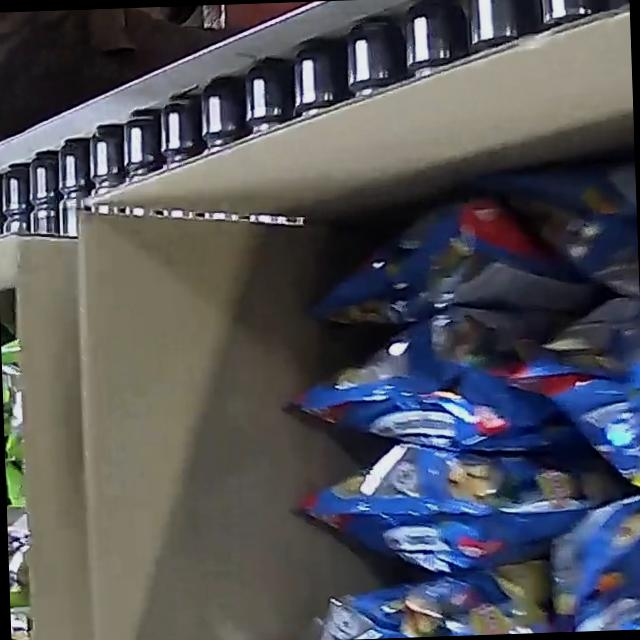paprika: (246, 84, 640, 640)
